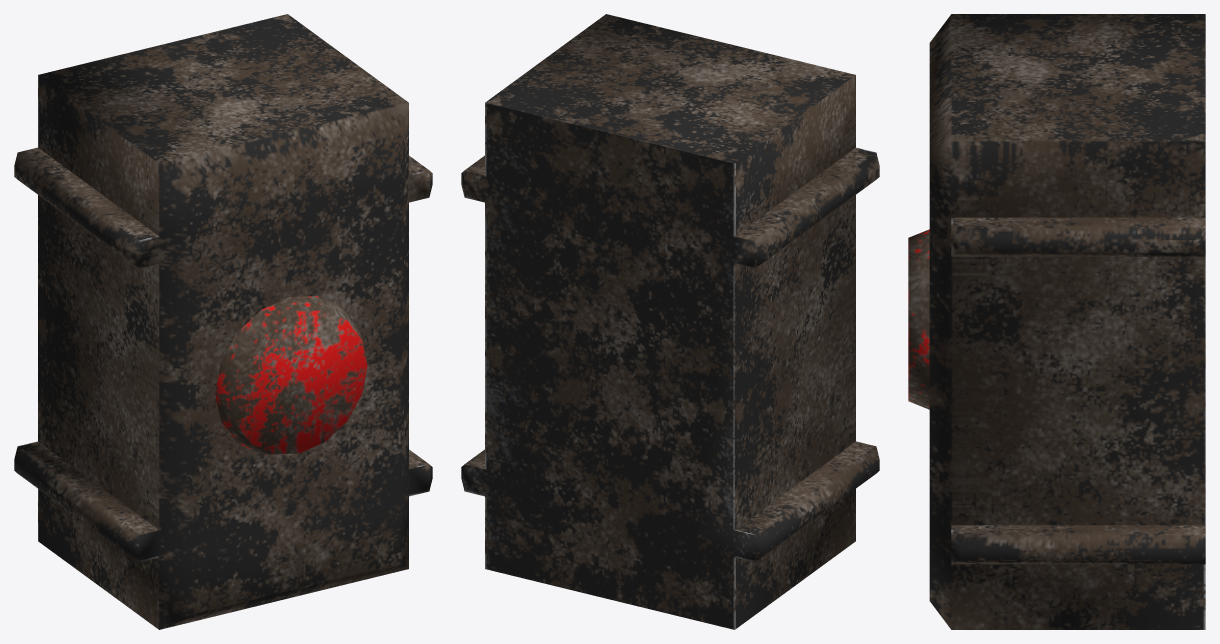
File: boton.glb
The picture shows the model from 3 angles, left to right: view 1: azimuth 30°, elevation 25°; view 2: azimuth 150°, elevation 25°; view 3: azimuth 270°, elevation 25°; orthographic projection. The views are drawn at different scales.
Parts seen in each view (by area): view 1: Cube; view 2: Cube; view 3: Cube.
Part boxes in pixels (bbox=[...]): Cube: bbox=[14, 14, 432, 629]; Cube: bbox=[461, 14, 879, 629]; Cube: bbox=[908, 14, 1205, 629].
Bounding box in the file's own units: 0.269 × 0.3925 × 0.2164.
1 material, 1 textured.
